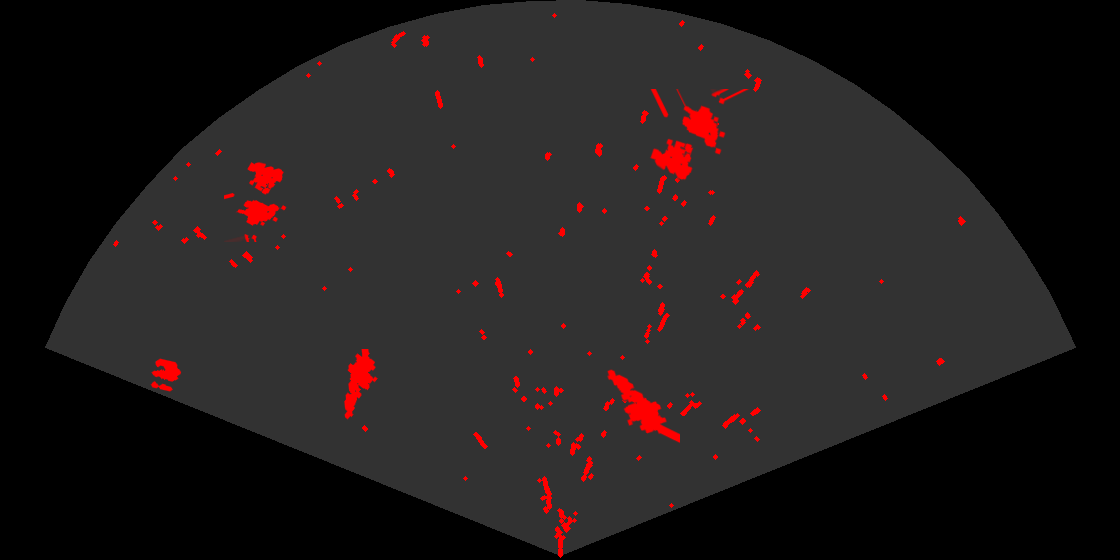ball: (149, 357, 183, 393)
cage: (648, 89, 751, 182), (224, 161, 288, 242)
frogman: (605, 368, 680, 445), (343, 349, 379, 421)
